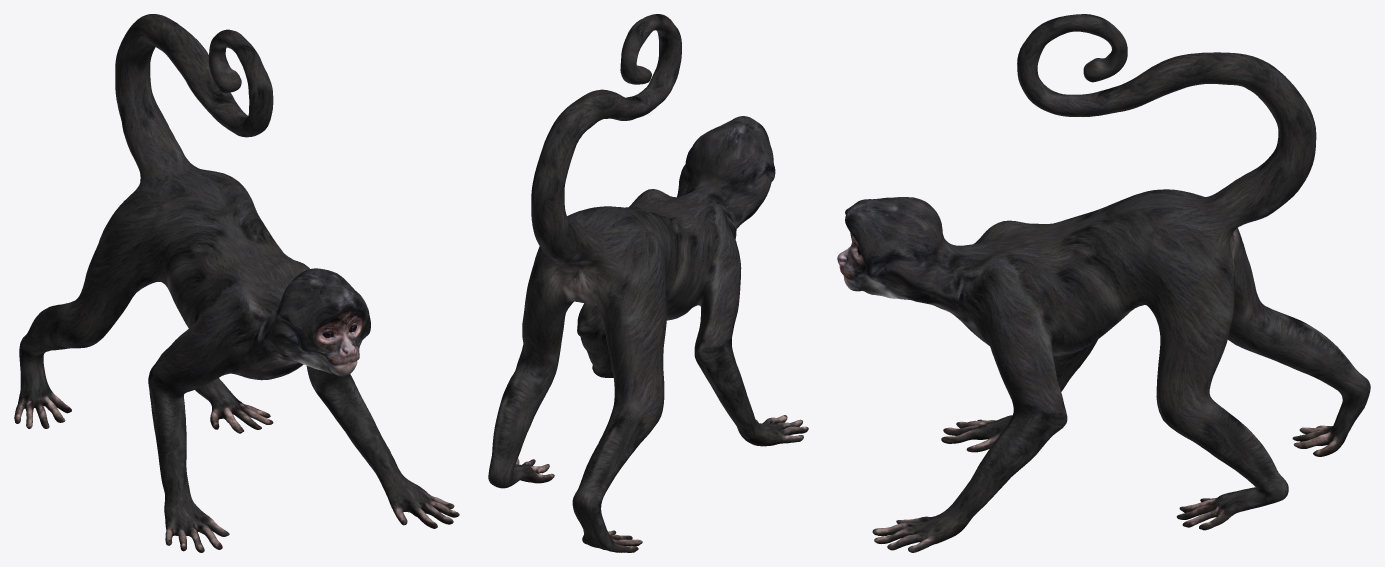
Rendered from MonoArana.glb.
The picture shows the model from 3 angles, left to right: view 1: azimuth 30°, elevation 25°; view 2: azimuth 150°, elevation 25°; view 3: azimuth 270°, elevation 25°; orthographic projection. The views are drawn at different scales.
Visible parts, largest first — view 1: Spider_Monkey; view 2: Spider_Monkey; view 3: Spider_Monkey.
Boxes of the visible parts, <box> form: Spider_Monkey: <box>14,14,459,552</box>; Spider_Monkey: <box>488,14,808,552</box>; Spider_Monkey: <box>837,14,1370,552</box>.
Bounding box in the file's own units: 19.54 × 33.09 × 34.03.
Materials: 1 (1 with a texture image).
